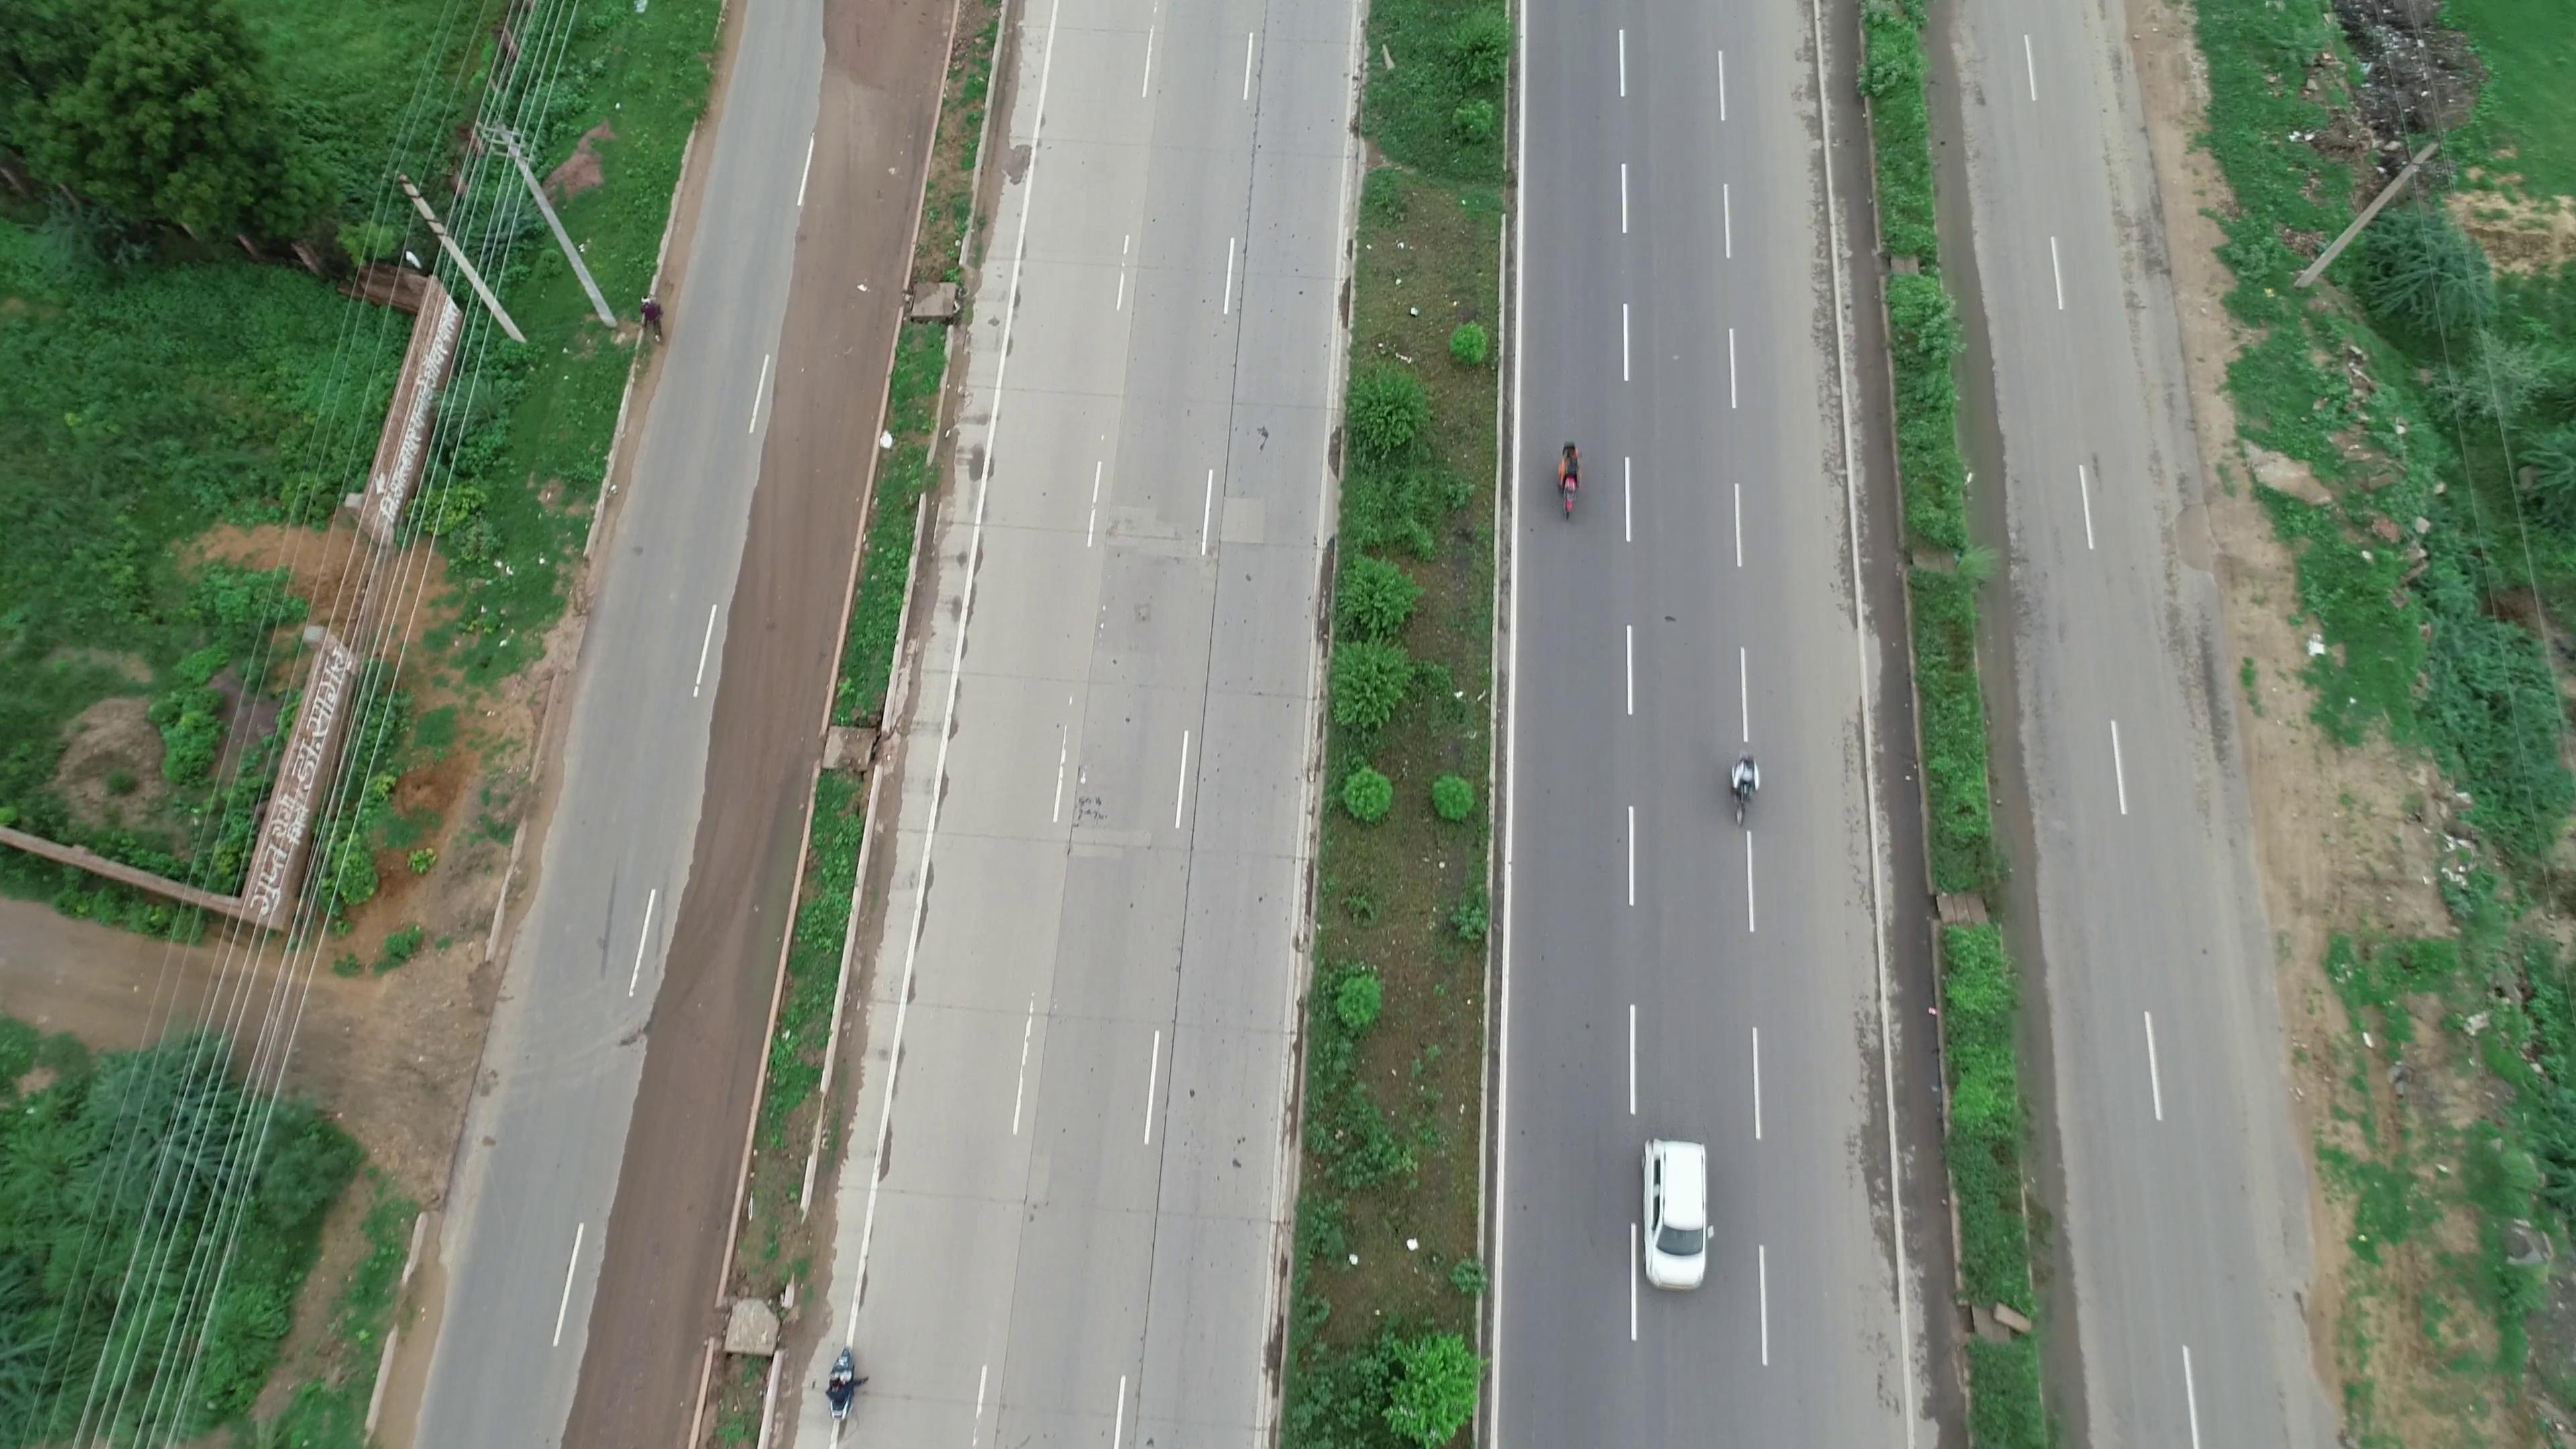Muddy_road: (630, 778, 801, 1093), (568, 1108, 731, 1435)
